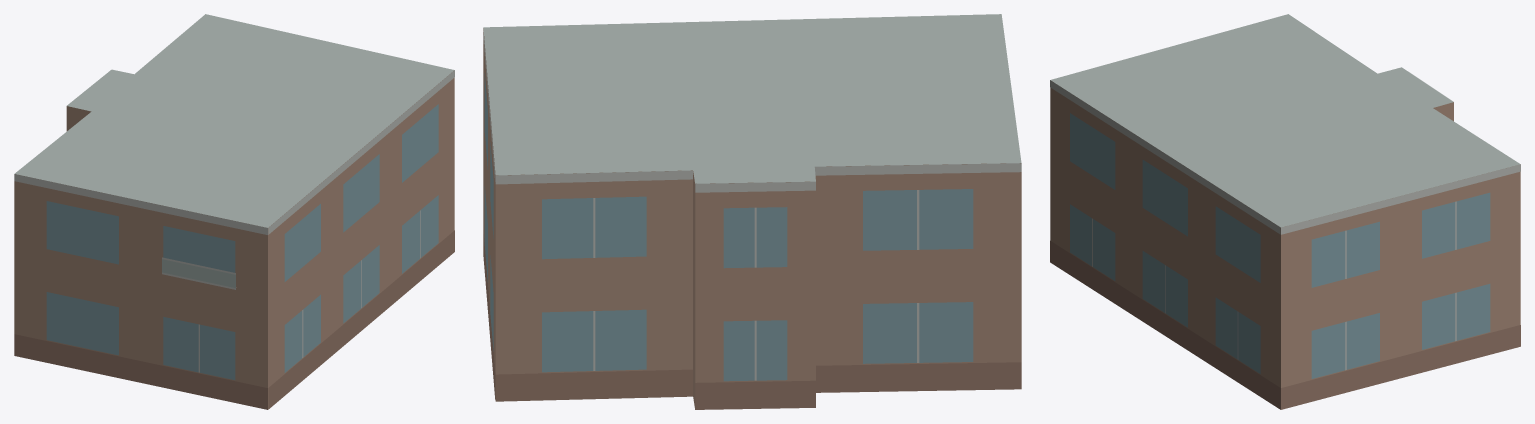
Rendered from survey-upis-32624058.glb.
3 views of the same model, side by side, from view 1: azimuth 30°, elevation 25°; view 2: azimuth 150°, elevation 25°; view 3: azimuth 270°, elevation 25° (orthographic). The views are drawn at different scales.
Parts seen in each view (by area): view 1: survey-upis-32624058.tmp; view 2: survey-upis-32624058.tmp; view 3: survey-upis-32624058.tmp.
Boxes of the visible parts, x1,y1,x2,y2 form: survey-upis-32624058.tmp: (14,14,454,409); survey-upis-32624058.tmp: (483,14,1021,409); survey-upis-32624058.tmp: (1050,14,1520,409).
Bounding box in the file's own units: 15.33 × 6.1 × 14.28.
